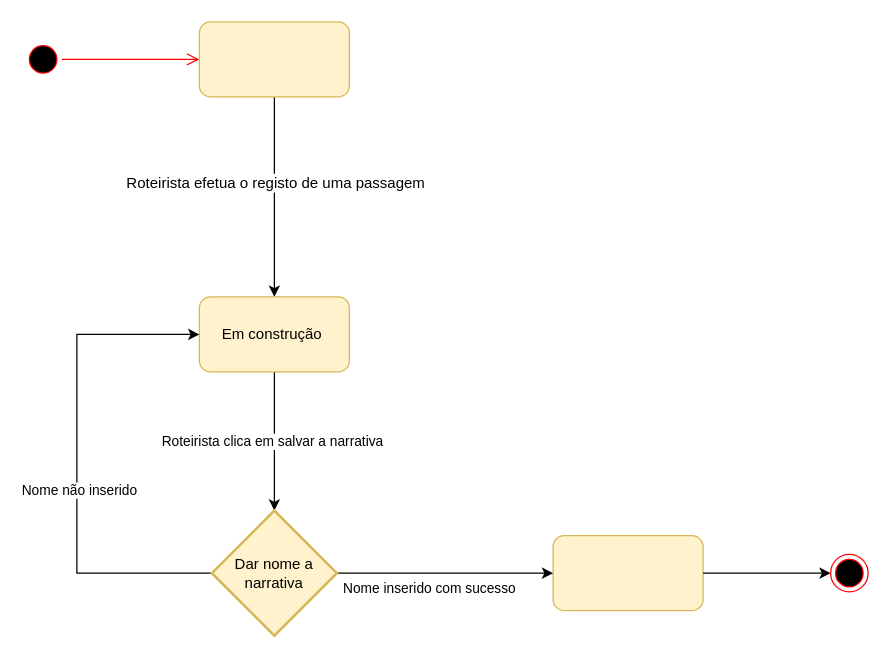
Image size: 890x659. Some labels were removed from this diagram. Here are the shapes that lost their labels. From the top down, the box of each, then its label:
(198, 21, 349, 97): Idle
(552, 534, 703, 611): Realizada
